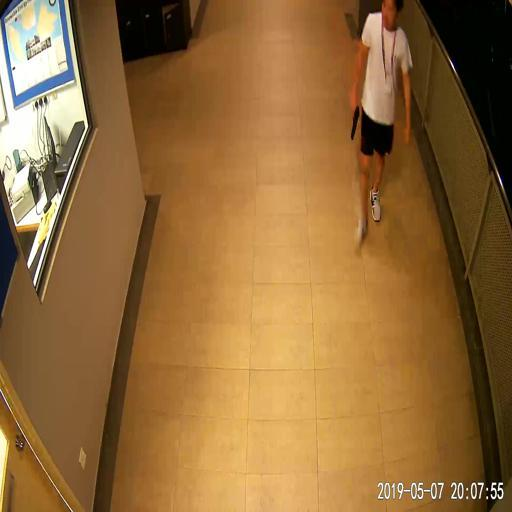Handgun: (348, 102, 358, 138)
